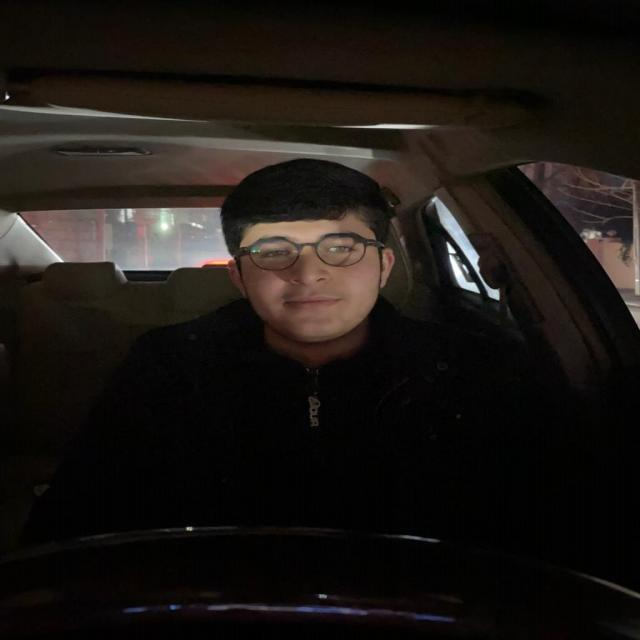person: (228, 169, 394, 344)
